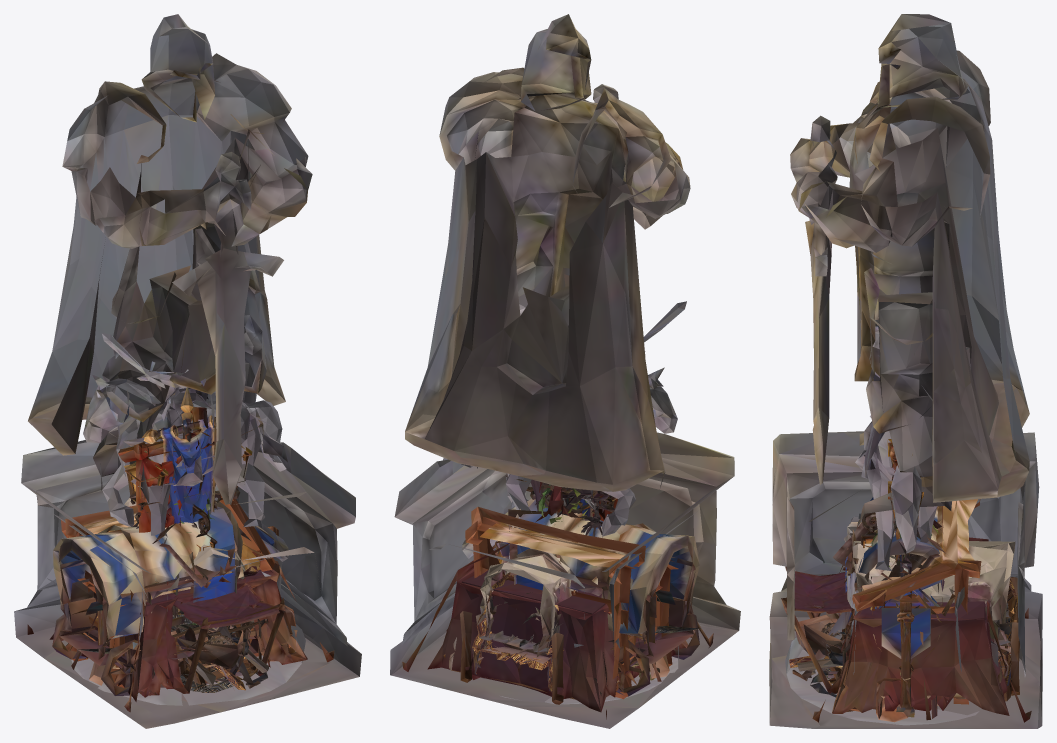
Rendered from oc_props.glb.
3 renders of one model, left to right at view 1: azimuth 30°, elevation 25°; view 2: azimuth 150°, elevation 25°; view 3: azimuth 270°, elevation 25°, orthographic. The views are drawn at different scales.
Visible parts, largest first — view 1: knight_statue__W_knight_statue, merchant_wagon__W_merchant_wagon_covered, rider_statue__W_statue_founder_rider, tent_big__W_bandit_tent_boss, banner_pole__W_banner_pole, stall_bakery__W_market_stall_bakery, camp_banner__W_bandit_banner, rowing_boat__W_rowing_boat, lumber_pile__W_lumber_pile_sawhorse, lamp_double__W_street_lamp_double, broken_wagon__W_broken_wagon, traveller_camp__W_traveller_camp (+2 smaller); view 2: knight_statue__W_knight_statue, tent_big__W_bandit_tent_boss, merchant_wagon__W_merchant_wagon_covered, stall_bakery__W_market_stall_bakery, rider_statue__W_statue_founder_rider, wagon_covered__W_bandit_wagon_covered, lumber_pile__W_lumber_pile_sawhorse, wagon_hay__W_wagon_hay, hanging_cage__W_hanging_cage, cart__W_cart, lamp_double__W_street_lamp_double; view 3: knight_statue__W_knight_statue, tent_big__W_bandit_tent_boss, rider_statue__W_statue_founder_rider, stall_bakery__W_market_stall_bakery, wagon_covered__W_bandit_wagon_covered, merchant_wagon__W_merchant_wagon_covered, lumber_pile__W_lumber_pile_sawhorse, well__W_well, rowing_boat__W_rowing_boat, laundry_line__W_laundry_line, traveller_camp__W_traveller_camp, cart__W_cart (+2 smaller).
Part boxes in pixels (<box>): knight_statue__W_knight_statue: <box>14,14,361,728</box>; merchant_wagon__W_merchant_wagon_covered: <box>52,500,297,695</box>; rider_statue__W_statue_founder_rider: <box>71,333,305,705</box>; tent_big__W_bandit_tent_boss: <box>27,544,334,712</box>; banner_pole__W_banner_pole: <box>142,387,216,523</box>; stall_bakery__W_market_stall_bakery: <box>61,486,295,687</box>; camp_banner__W_bandit_banner: <box>118,407,217,532</box>; rowing_boat__W_rowing_boat: <box>171,623,250,682</box>; lumber_pile__W_lumber_pile_sawhorse: <box>171,620,260,692</box>; lamp_double__W_street_lamp_double: <box>124,443,252,521</box>; broken_wagon__W_broken_wagon: <box>77,614,235,692</box>; traveller_camp__W_traveller_camp: <box>182,619,295,686</box>; knight_statue__W_knight_statue: <box>390,14,740,728</box>; tent_big__W_bandit_tent_boss: <box>402,485,713,719</box>; merchant_wagon__W_merchant_wagon_covered: <box>509,498,699,696</box>; stall_bakery__W_market_stall_bakery: <box>465,506,678,699</box>; rider_statue__W_statue_founder_rider: <box>461,301,686,704</box>; wagon_covered__W_bandit_wagon_covered: <box>474,548,577,691</box>; lumber_pile__W_lumber_pile_sawhorse: <box>449,611,575,704</box>; wagon_hay__W_wagon_hay: <box>472,572,575,692</box>; hanging_cage__W_hanging_cage: <box>529,479,609,537</box>; cart__W_cart: <box>476,591,562,652</box>; lamp_double__W_street_lamp_double: <box>506,474,618,516</box>; knight_statue__W_knight_statue: <box>769,14,1042,728</box>; tent_big__W_bandit_tent_boss: <box>781,520,1031,722</box>; rider_statue__W_statue_founder_rider: <box>785,319,1025,725</box>; stall_bakery__W_market_stall_bakery: <box>845,499,981,722</box>; wagon_covered__W_bandit_wagon_covered: <box>826,541,1015,685</box>; merchant_wagon__W_merchant_wagon_covered: <box>838,497,944,718</box>; lumber_pile__W_lumber_pile_sawhorse: <box>792,577,1019,701</box>; well__W_well: <box>833,514,945,637</box>; rowing_boat__W_rowing_boat: <box>794,613,851,671</box>; laundry_line__W_laundry_line: <box>896,602,914,717</box>; traveller_camp__W_traveller_camp: <box>810,593,1003,711</box>; cart__W_cart: <box>797,600,1012,671</box>.
Size of the model in its own units: 5.51 by 14.05 by 5.25.
Materials: 1 (1 with a texture image).
